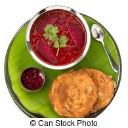poori: (51, 71, 93, 116), (81, 67, 114, 109)
